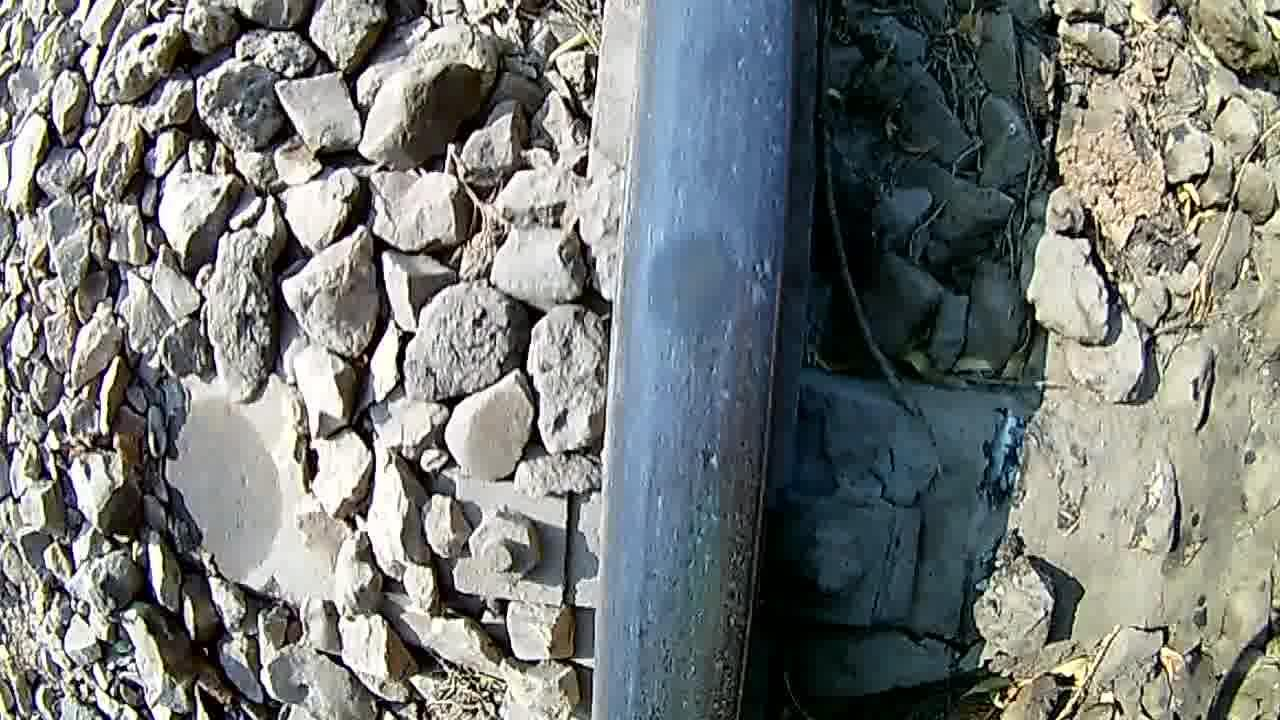bolt_missing: (610, 3, 783, 610)
